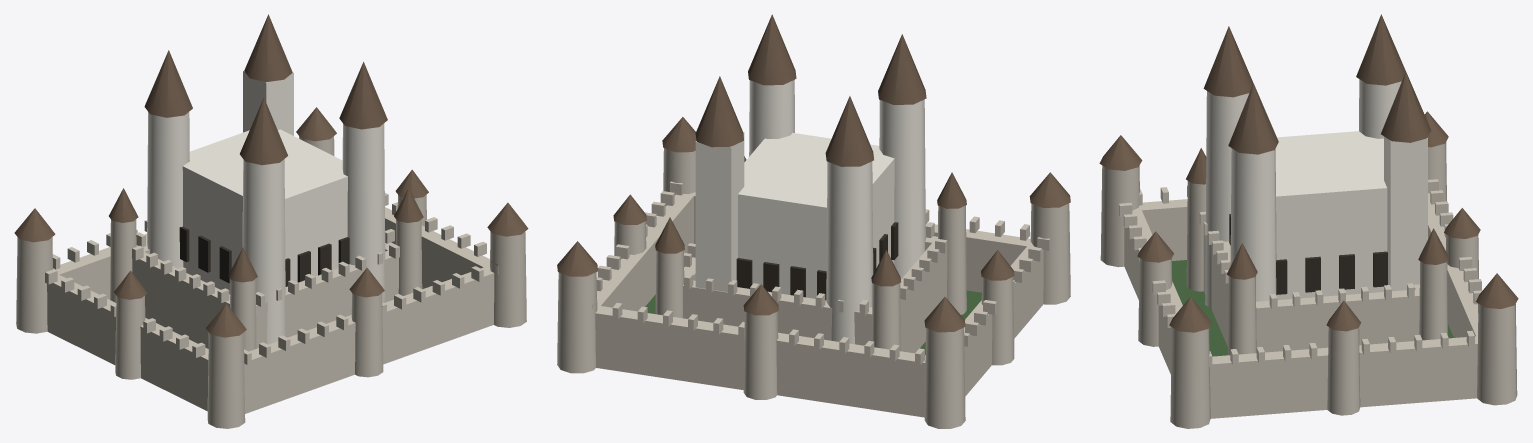
The model's file is towerlondon.glb.
3 views of the same model, side by side, from view 1: azimuth 30°, elevation 25°; view 2: azimuth 150°, elevation 25°; view 3: azimuth 270°, elevation 25° (orthographic). The views are drawn at different scales.
Visible parts, largest first — view 1: white-tower, towerlondon, outer-curtain, inner-curtain; view 2: white-tower, towerlondon, outer-curtain, inner-curtain; view 3: white-tower, towerlondon, outer-curtain, inner-curtain.
Boxes of the visible parts, box(x1,y1,x2,y2) form: white-tower: box(144, 14, 387, 344); towerlondon: box(14, 107, 528, 428); outer-curtain: box(47, 207, 494, 413); inner-curtain: box(132, 242, 398, 348); white-tower: box(695, 14, 926, 344); towerlondon: box(557, 117, 1070, 428); outer-curtain: box(595, 192, 1043, 417); inner-curtain: box(682, 236, 947, 353); white-tower: box(1203, 14, 1431, 309); towerlondon: box(1099, 111, 1518, 428); outer-curtain: box(1124, 193, 1478, 418); inner-curtain: box(1203, 233, 1419, 352).
Size of the model in its own units: 1 by 0.6416 by 0.8747.
